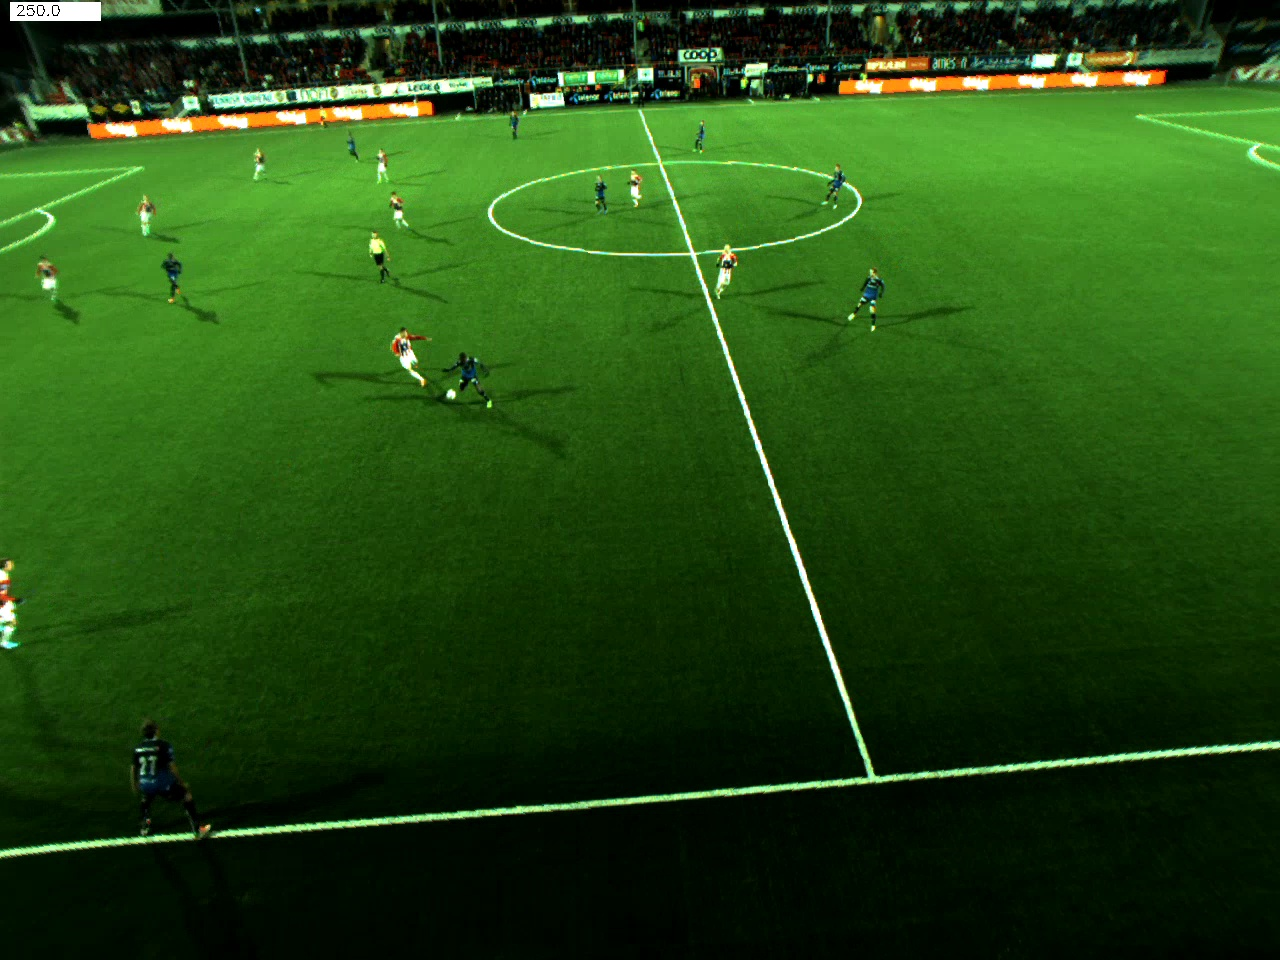blue: (116, 712, 233, 846), (446, 344, 512, 430), (849, 257, 889, 355), (152, 245, 191, 330), (816, 160, 848, 227), (584, 173, 620, 220), (335, 124, 369, 163), (692, 112, 714, 175), (501, 113, 533, 148)
red: (26, 253, 88, 338), (1, 560, 39, 684), (384, 324, 441, 398), (378, 187, 423, 246), (124, 191, 170, 246), (710, 237, 739, 324), (244, 139, 278, 191), (623, 164, 646, 216)
yellow: (356, 230, 423, 309), (371, 144, 402, 189)
